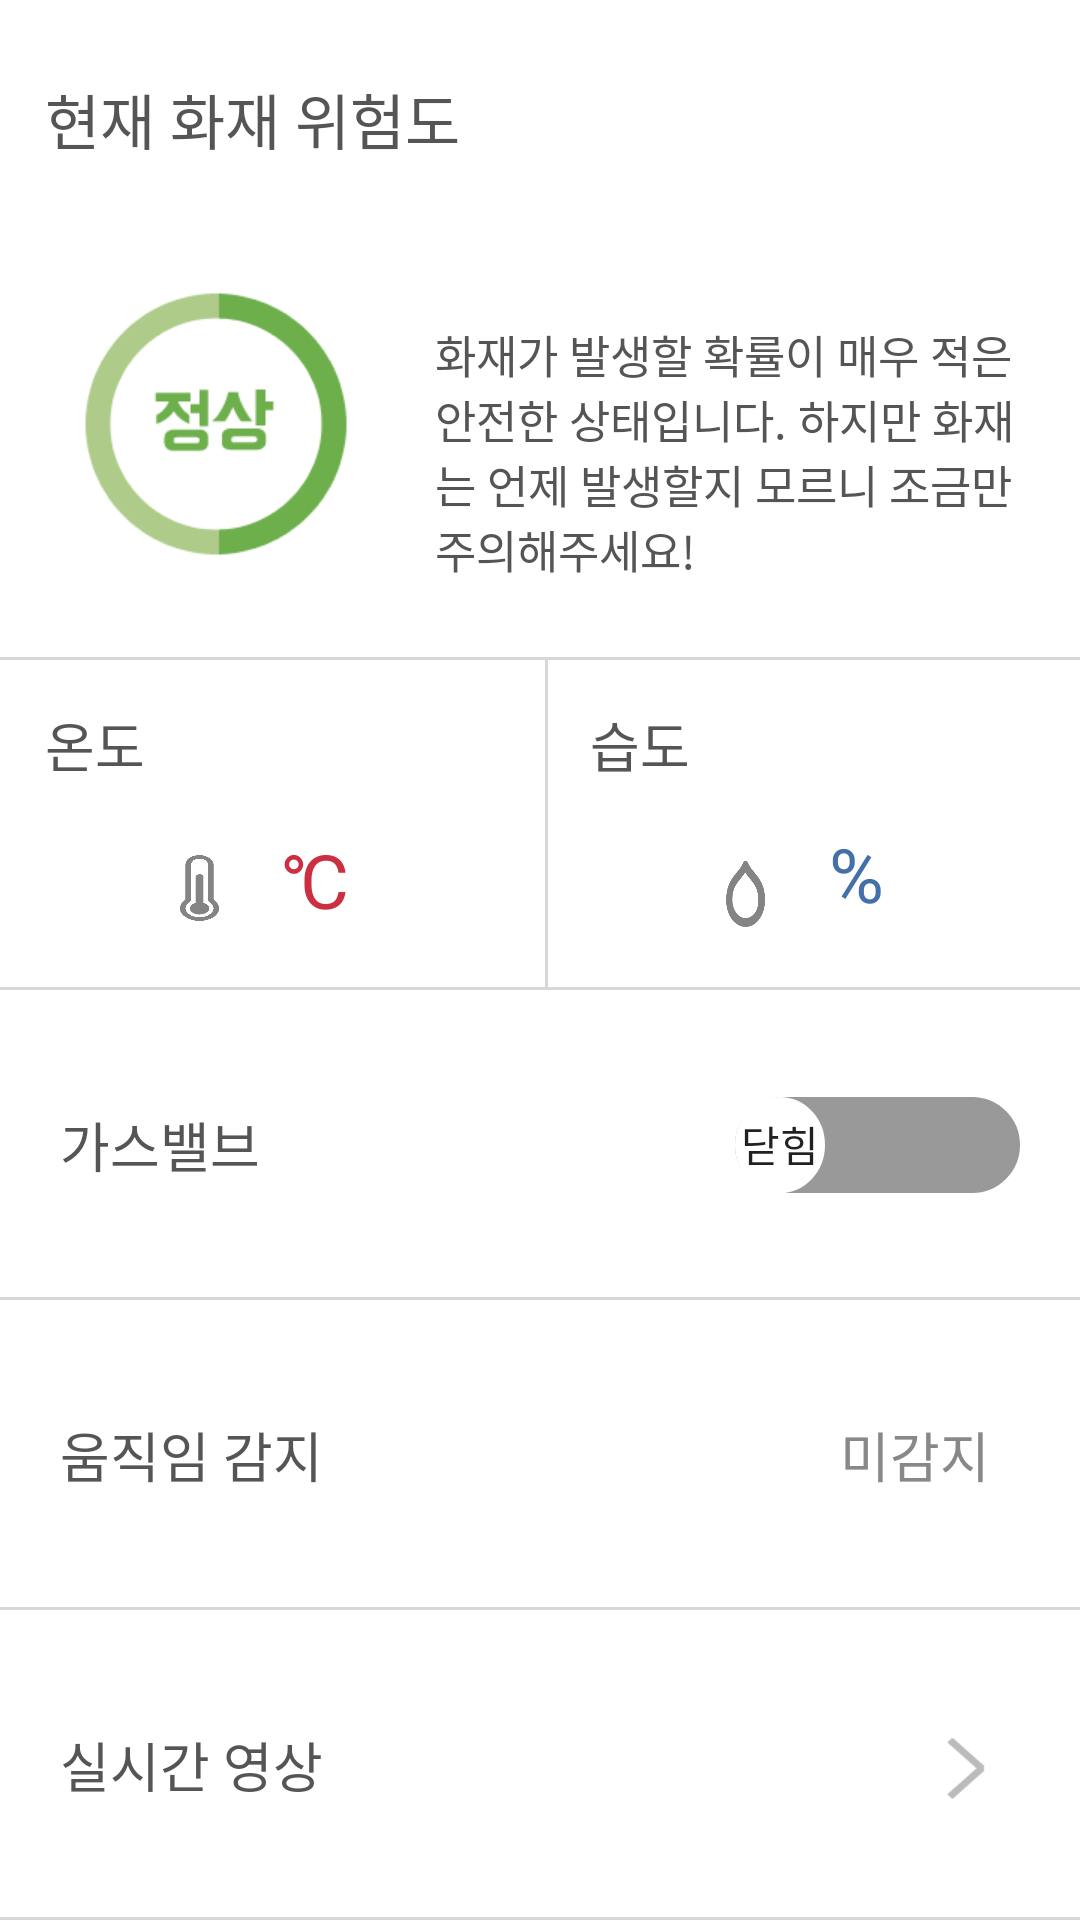

Named icons in this screenshot (1080w x 1920h) and their bounding boxes, Rect(x1, y1, x2, y2):
humidity: Rect(726, 861, 765, 927)
temperature: Rect(180, 855, 219, 921)
